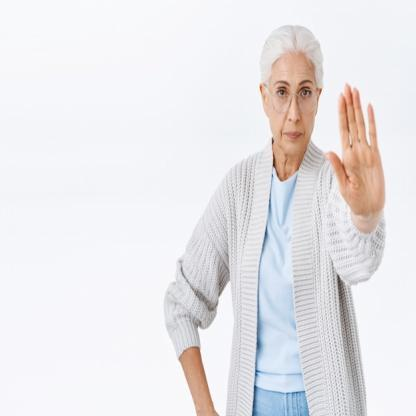stop: (323, 80, 390, 229)
